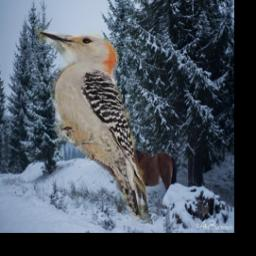Woodpecker: (34, 21, 153, 226)
